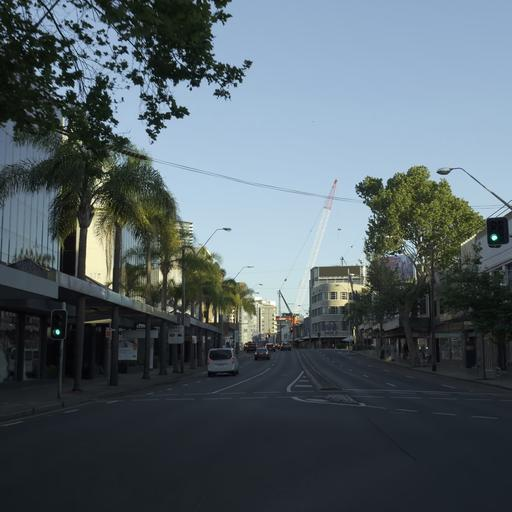Street light: (435, 164, 511, 379), (179, 225, 231, 373), (383, 232, 437, 371), (435, 165, 511, 221), (230, 264, 254, 353), (233, 264, 254, 281)
